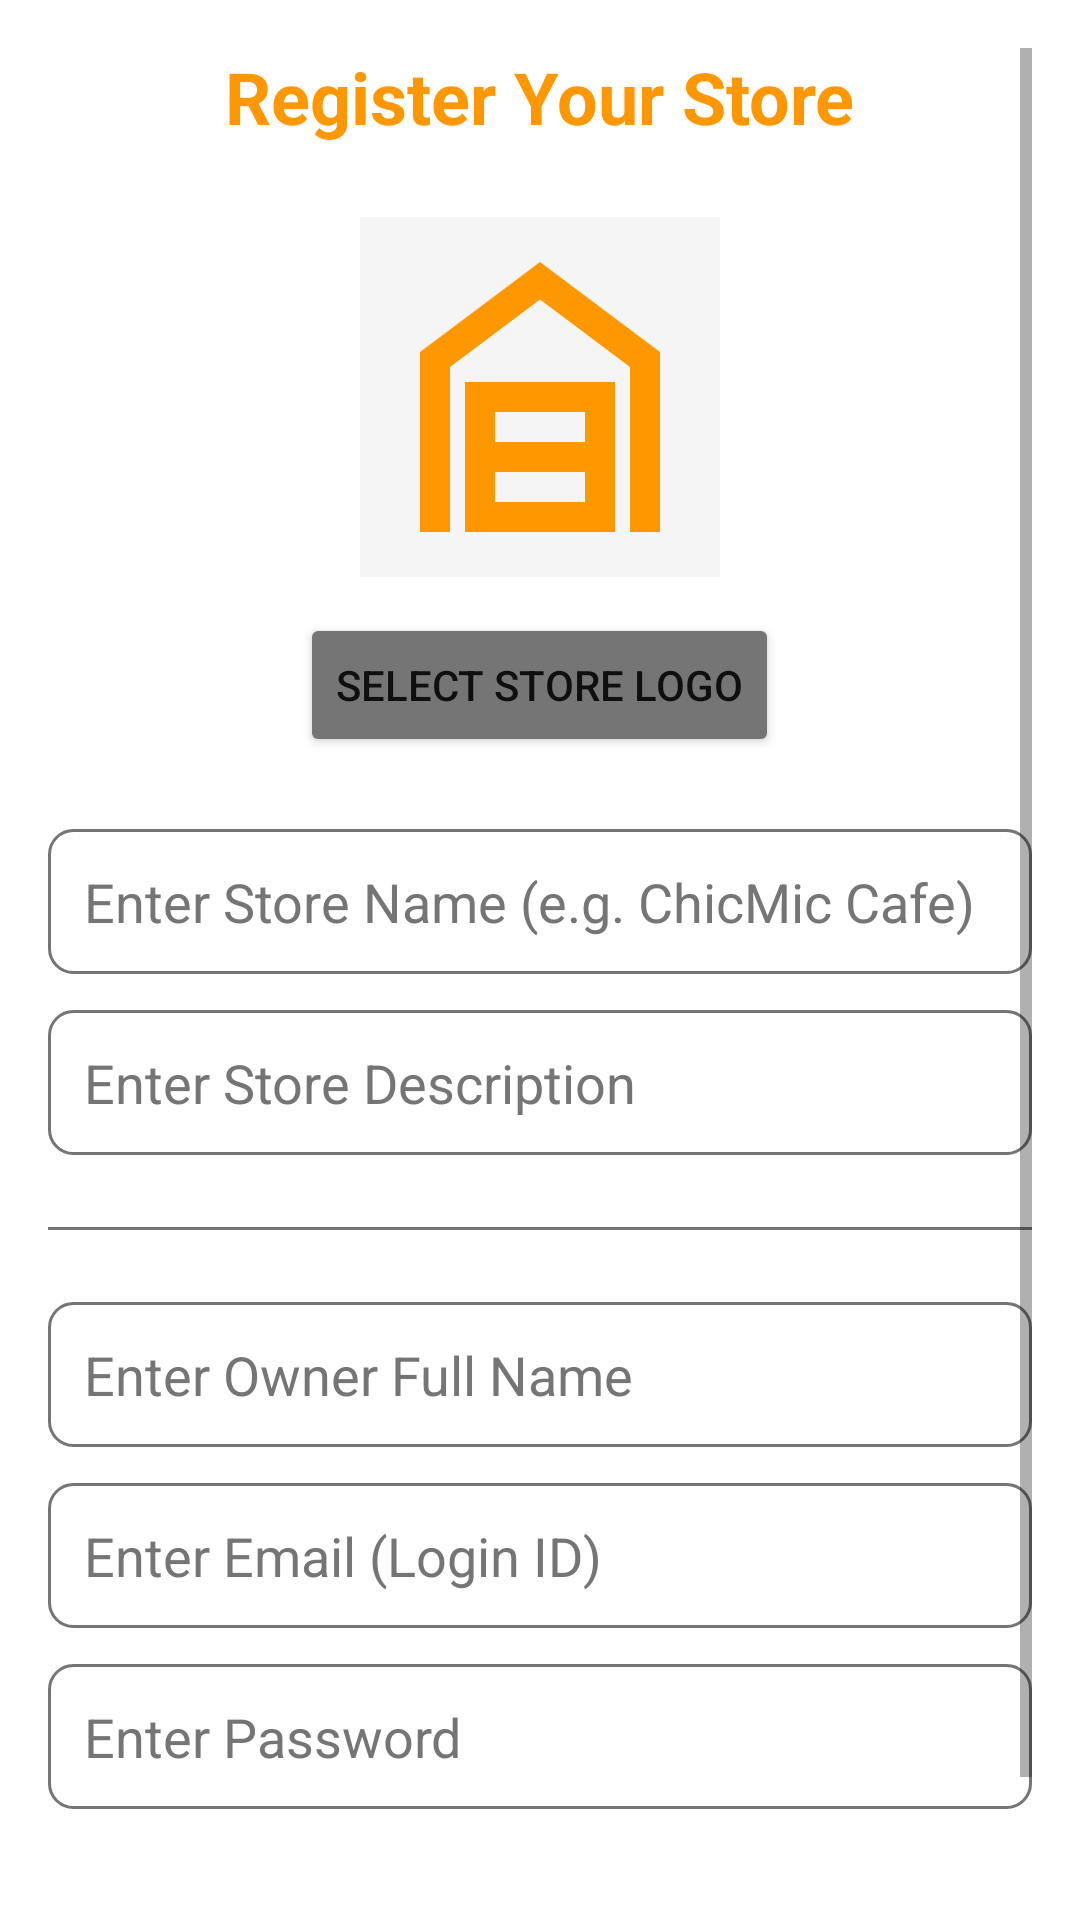

Screen size 1080×1920. Icon name, then its center in pixels as point (x, y):
garage home: point (540, 397)
